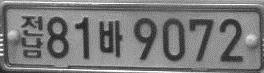0: (161, 17, 186, 62)
1: (72, 16, 95, 59)
2: (218, 18, 243, 62)
7: (188, 18, 214, 62)
8: (45, 15, 69, 59)
9: (132, 16, 158, 61)
바: (98, 19, 124, 57)
전남_V: (20, 15, 44, 59)
